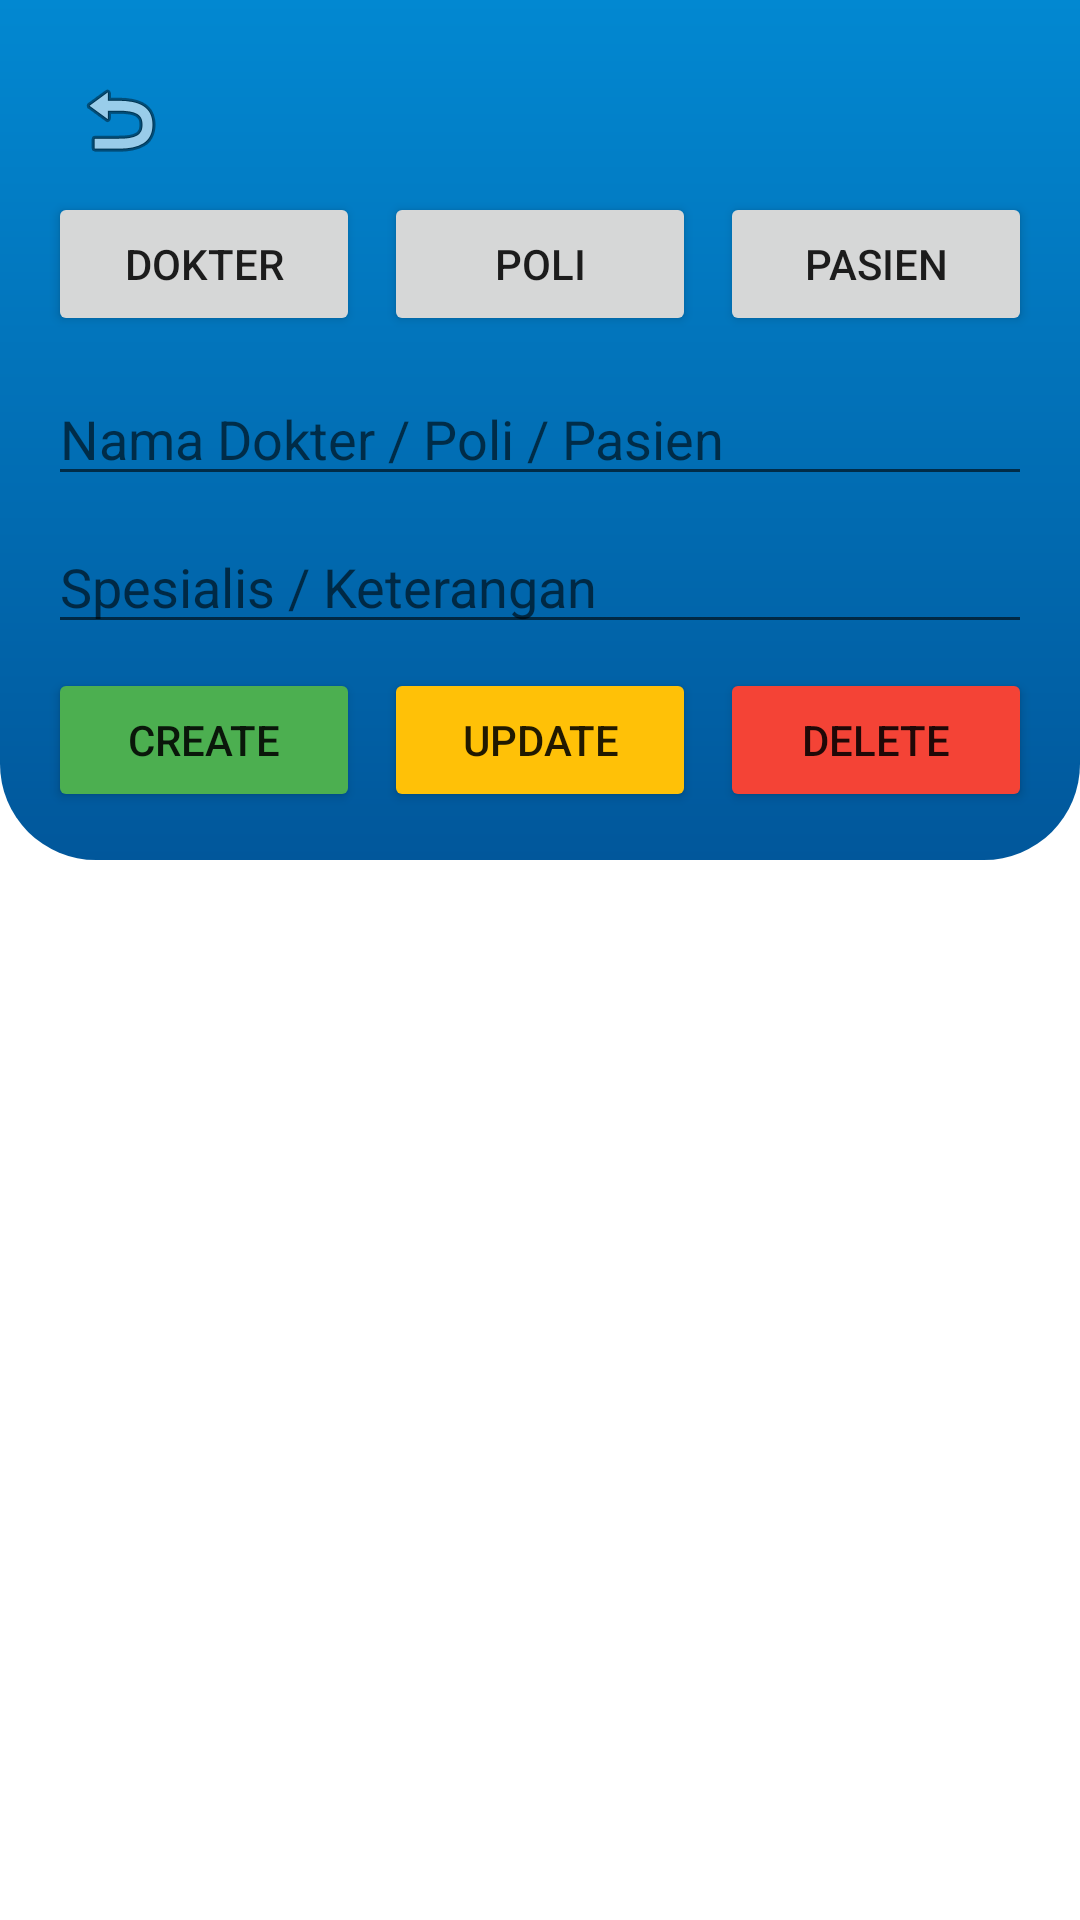

Screen size 1080x1920. Icon name, then its center in pixels as (x=x, y=y):
revert: (x=121, y=120)
